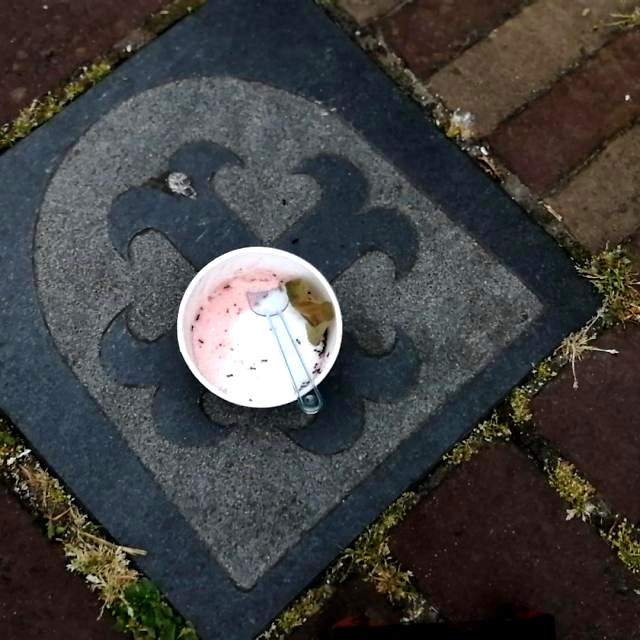Paper: (173, 244, 344, 410)
